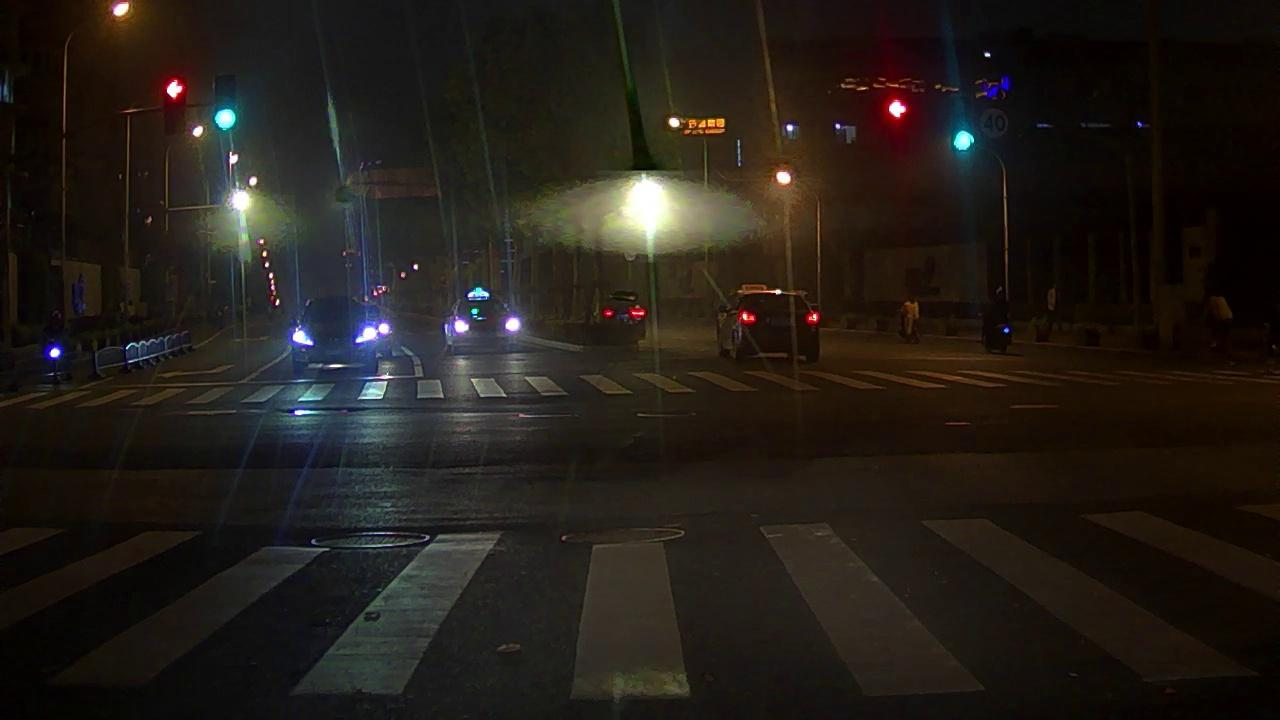traffic_light: (213, 77, 237, 132), (954, 99, 975, 157), (167, 77, 187, 131), (888, 100, 908, 151)
